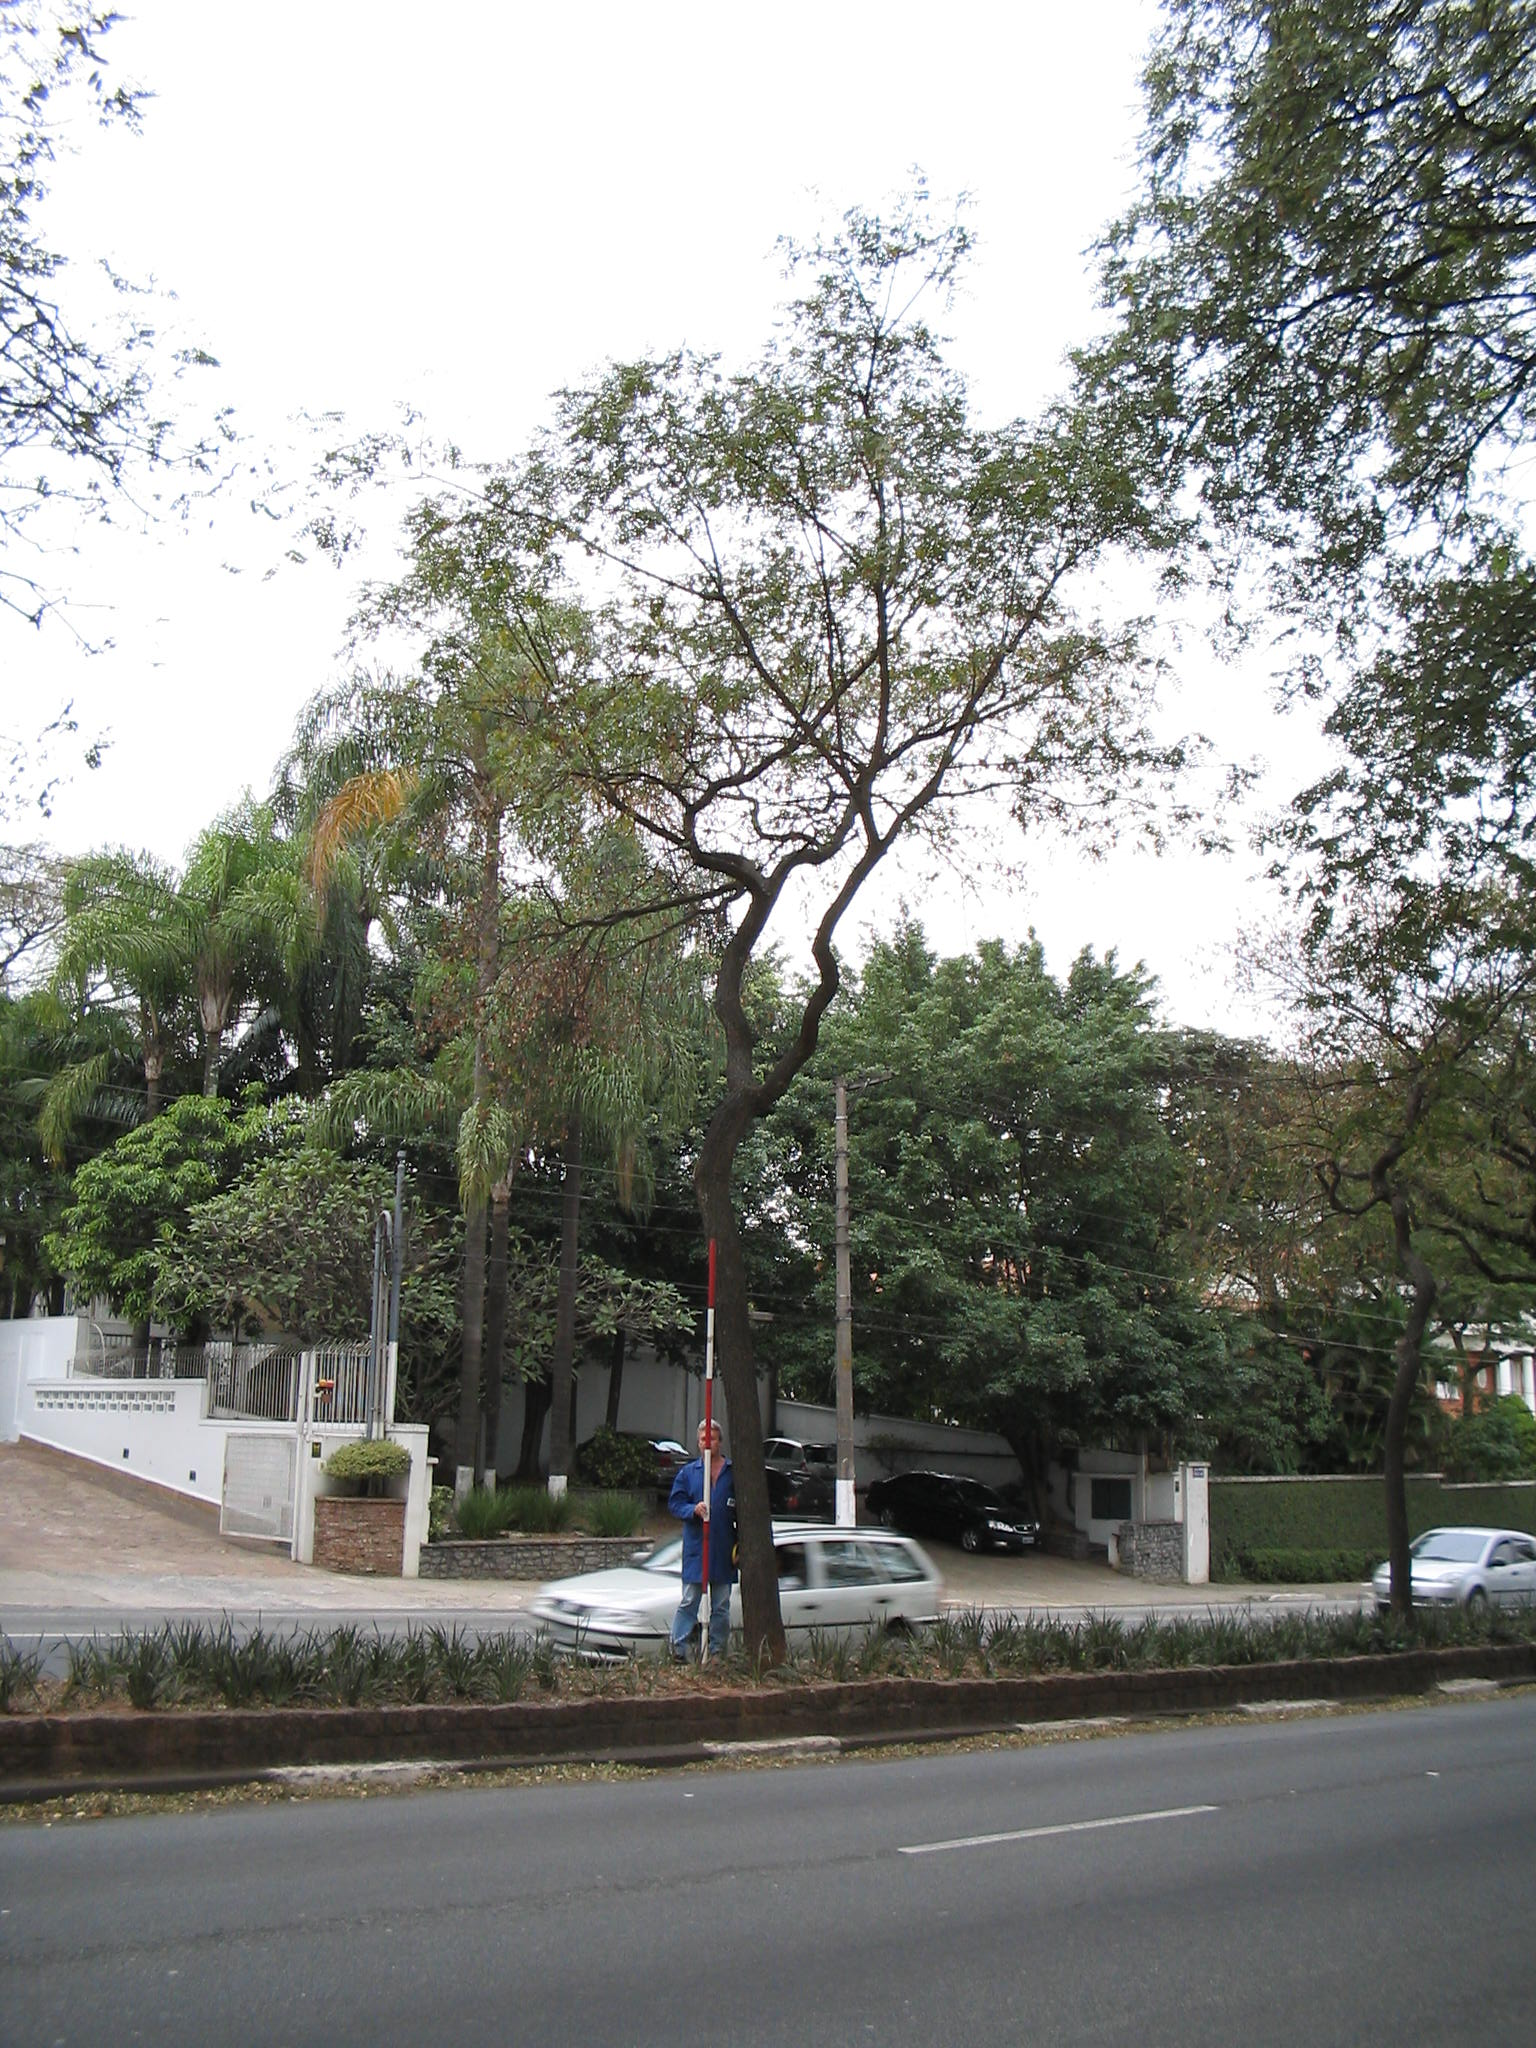crown: (315, 171, 1249, 947)
stem: (658, 1090, 857, 1663)
stick: (676, 1235, 742, 1671)
tree: (307, 163, 1257, 1671), (803, 929, 1238, 1550)
